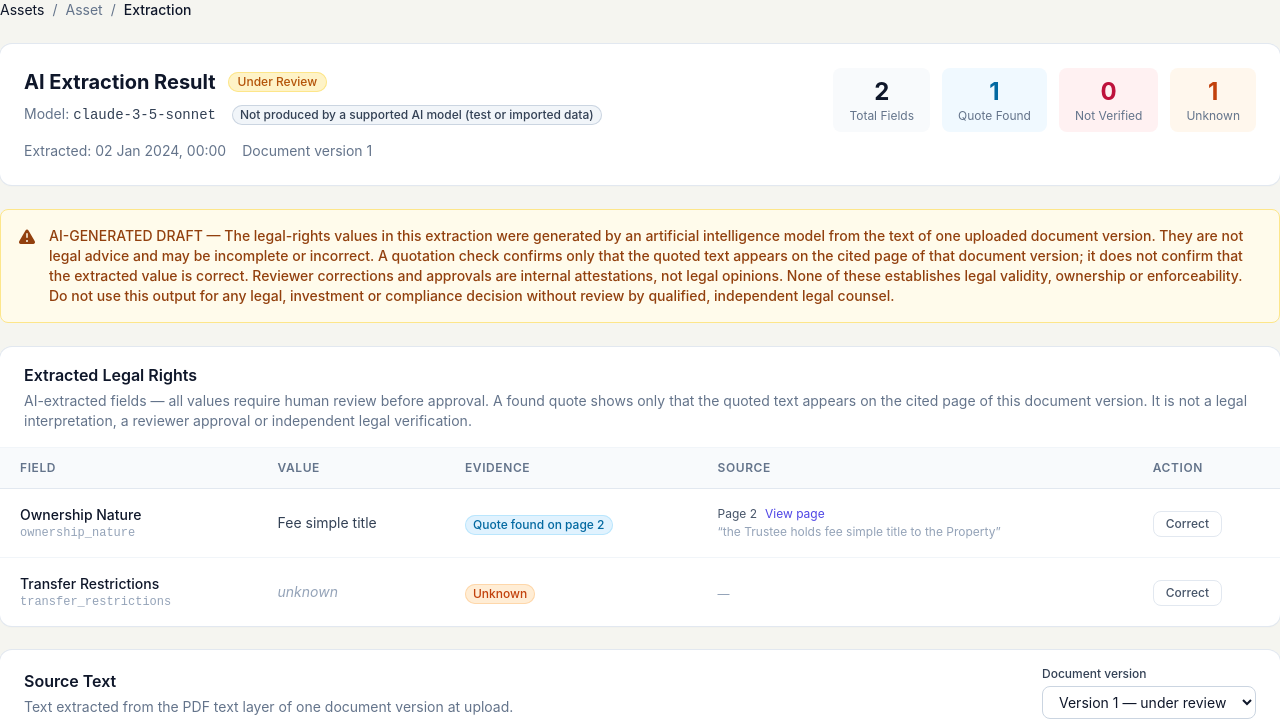
Scenario: Version-specific source text (Stage 9B-4, step 9) › brings a claim's cited page of the reviewed version into view, even from another version
The width and height of the screenshot is (1280, 720).
Select "Version 2 (latest)" in the dropdown labelled "Document version" at coordinates (1149, 702), box 1042,686 -> 1256,719
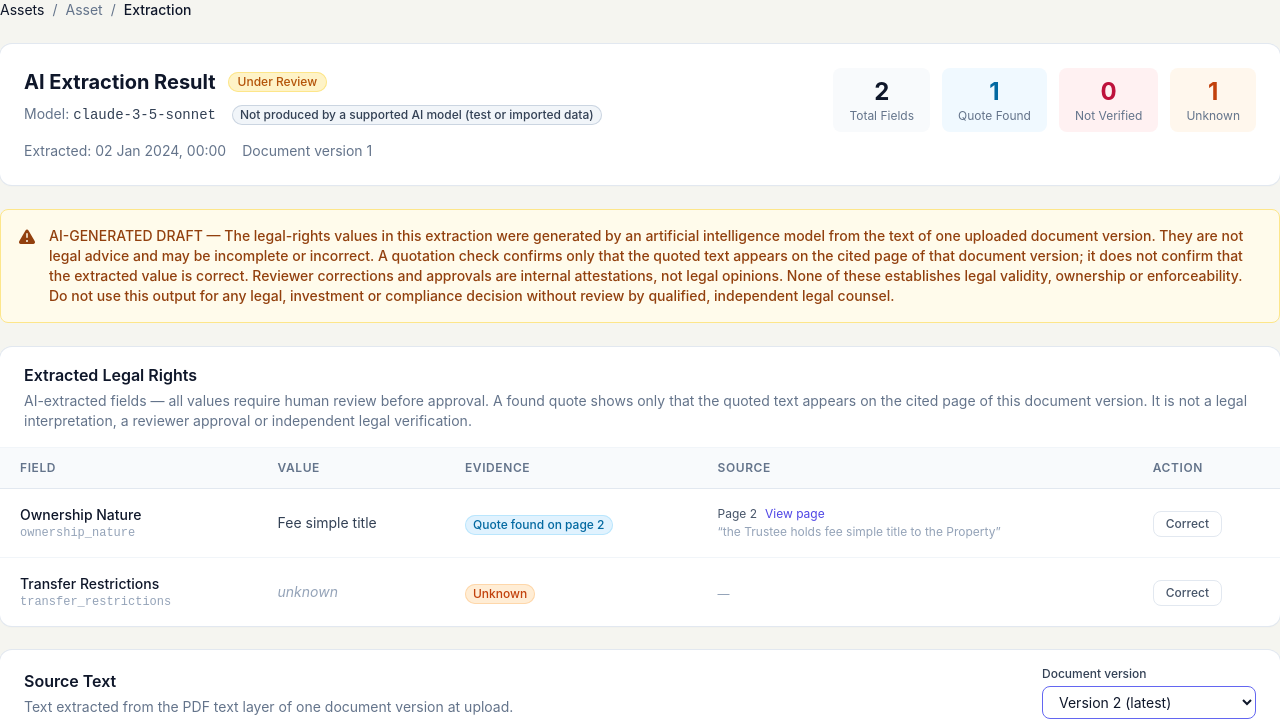
Click the button with aria-label "View page 2 of the source text for Ownership Nature" at coordinates (795, 514), box 765,506 -> 825,522
(page scrolled)
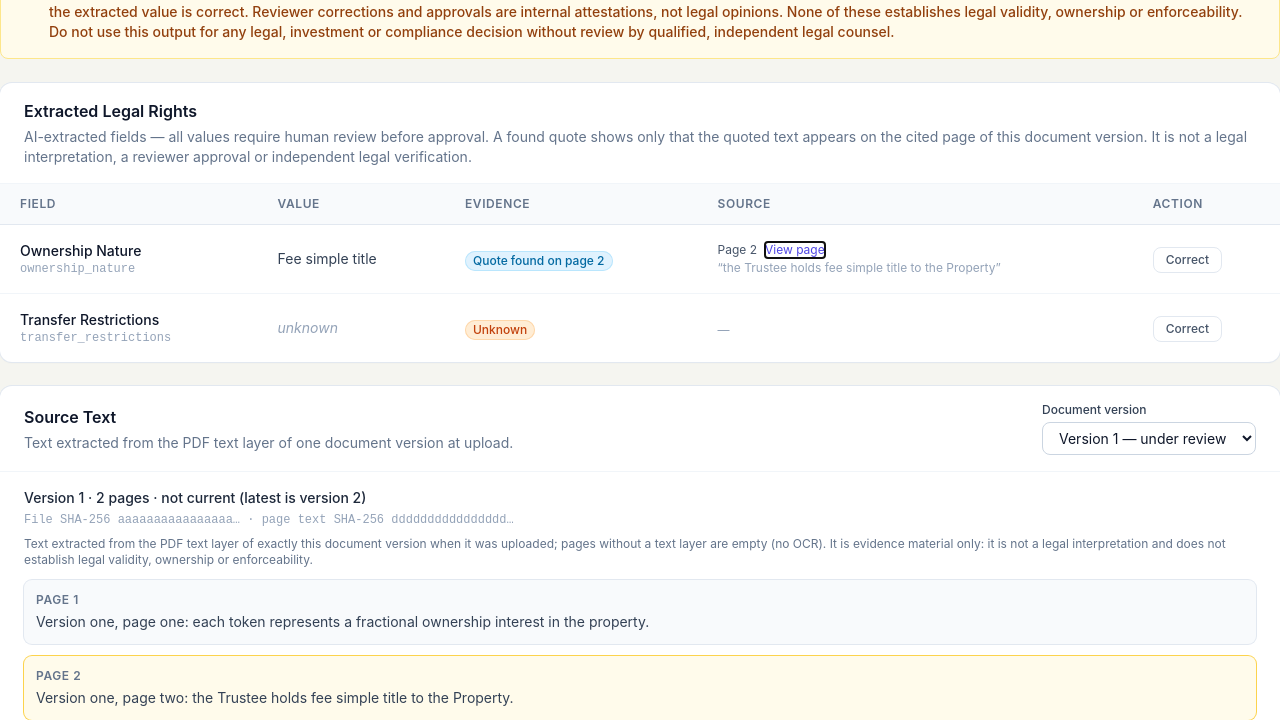
Now the text "Version one, page two: the Trustee holds fee simple title to the Property." is shown, box 36,689 -> 514,706
